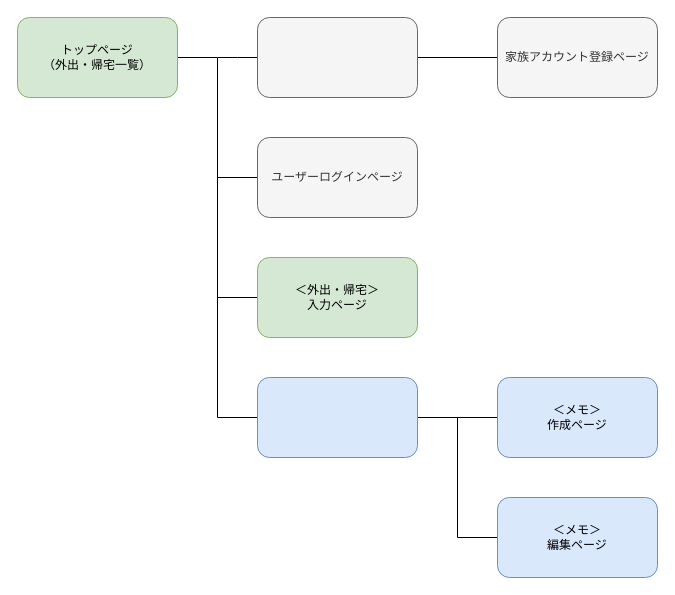
Image size: 675x595. Some labels were removed from this diagram. Each missing label, with the box of its shape:
ユーザー新規登録ページ: (256, 16, 418, 98)
＜メモ＞ 一覧表示ページ: (256, 376, 418, 458)
